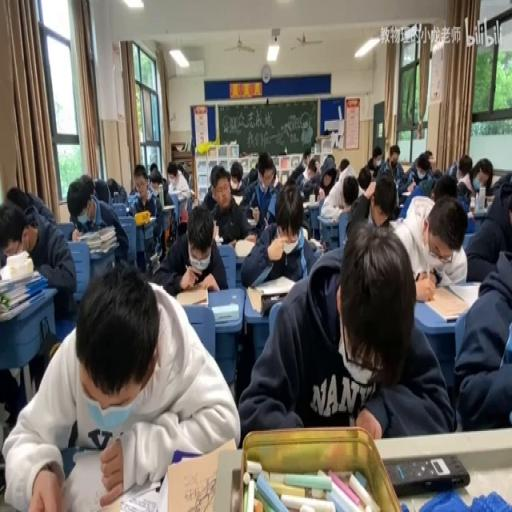calculator: (164, 441, 238, 512), (70, 456, 159, 512), (422, 284, 473, 322), (250, 274, 294, 294), (175, 286, 208, 307), (212, 301, 238, 323), (318, 205, 341, 225), (234, 238, 256, 256), (89, 244, 117, 258), (470, 206, 490, 218), (170, 188, 189, 200), (308, 235, 323, 250), (149, 250, 159, 268), (230, 194, 244, 206), (402, 183, 414, 195), (485, 194, 494, 208), (212, 223, 218, 242), (302, 199, 312, 209), (401, 164, 411, 174), (246, 218, 258, 226), (160, 204, 174, 210), (309, 193, 315, 205), (189, 189, 194, 198)
paper: (6, 263, 237, 511), (237, 218, 442, 438), (0, 195, 76, 327), (394, 192, 468, 296), (150, 202, 226, 296), (64, 172, 127, 267), (462, 176, 512, 282), (206, 165, 252, 245), (127, 161, 162, 253), (349, 169, 393, 233), (398, 150, 433, 200), (467, 156, 493, 196), (299, 194, 321, 240), (298, 157, 322, 199), (432, 174, 458, 204), (6, 184, 32, 214), (364, 145, 384, 178), (488, 169, 510, 199), (106, 176, 128, 202), (341, 174, 357, 204), (230, 161, 243, 189), (458, 156, 471, 180), (178, 164, 190, 188), (244, 166, 258, 186), (322, 154, 335, 174), (126, 192, 140, 210), (338, 156, 348, 174), (166, 171, 178, 186), (389, 146, 399, 164), (448, 160, 458, 178), (302, 149, 312, 165), (323, 175, 334, 188), (148, 161, 158, 175), (423, 150, 433, 164), (432, 168, 442, 179), (314, 162, 320, 174)
person: (386, 454, 470, 496), (261, 292, 288, 314), (430, 267, 441, 286)
